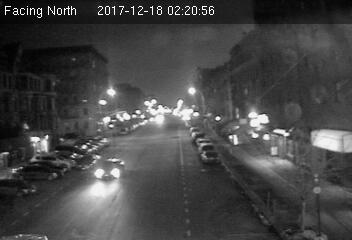car: (93, 157, 125, 180), (76, 155, 100, 170), (200, 152, 221, 164)
